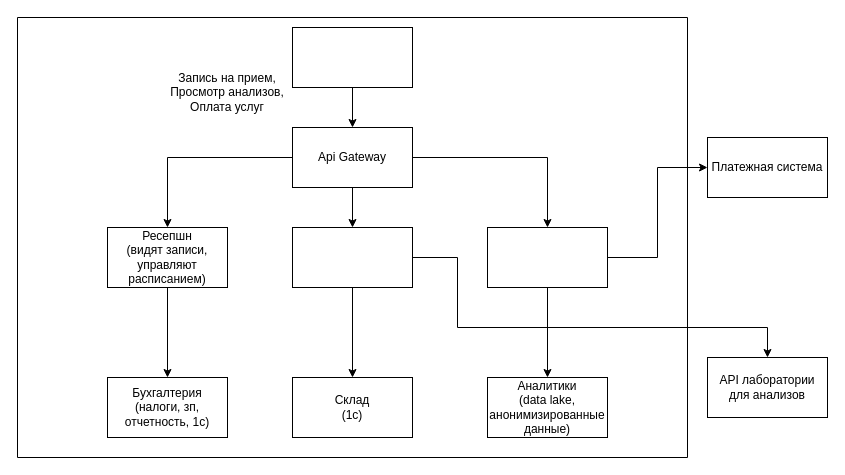
This 845x475 diagram has some shape labels left out. Each missing label, with the centre of its shape:
"Кассиры (проводят платежи, работают с бухгалтерией)" belongs at point (547, 257).
"Мед.специалисты (доступ к картам пациентов, получают анализы)" belongs at point (352, 257).
"Пациент (web/mobile app)" belongs at point (352, 57).
